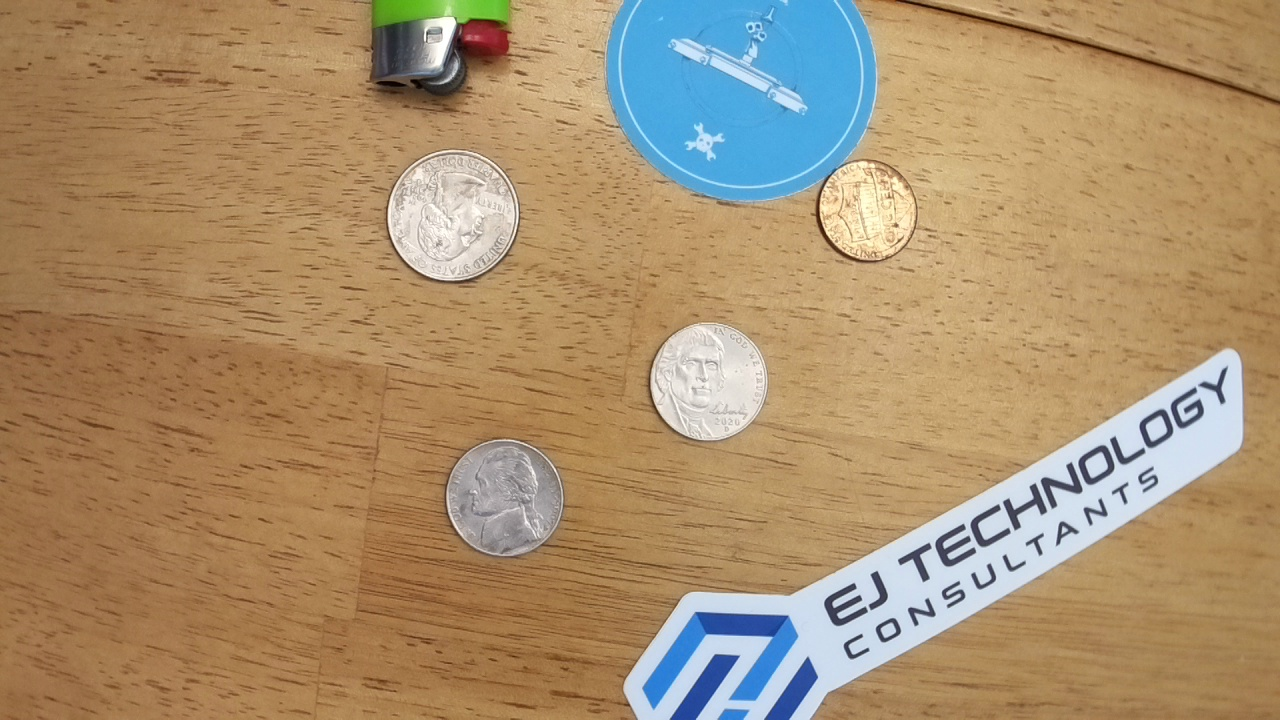nickel: (646, 320, 770, 444), (444, 434, 564, 560)
penny: (815, 156, 919, 266)
quarter: (384, 144, 520, 290)
